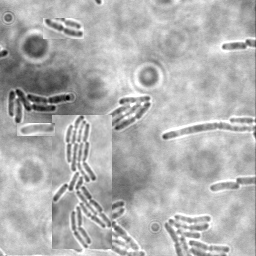Dividing: (161, 123, 255, 142), (43, 18, 84, 39), (221, 41, 248, 52)
Microcolony: (52, 115, 112, 249), (162, 212, 231, 255), (8, 89, 72, 126), (106, 96, 153, 132), (17, 123, 55, 136), (208, 182, 240, 193)
